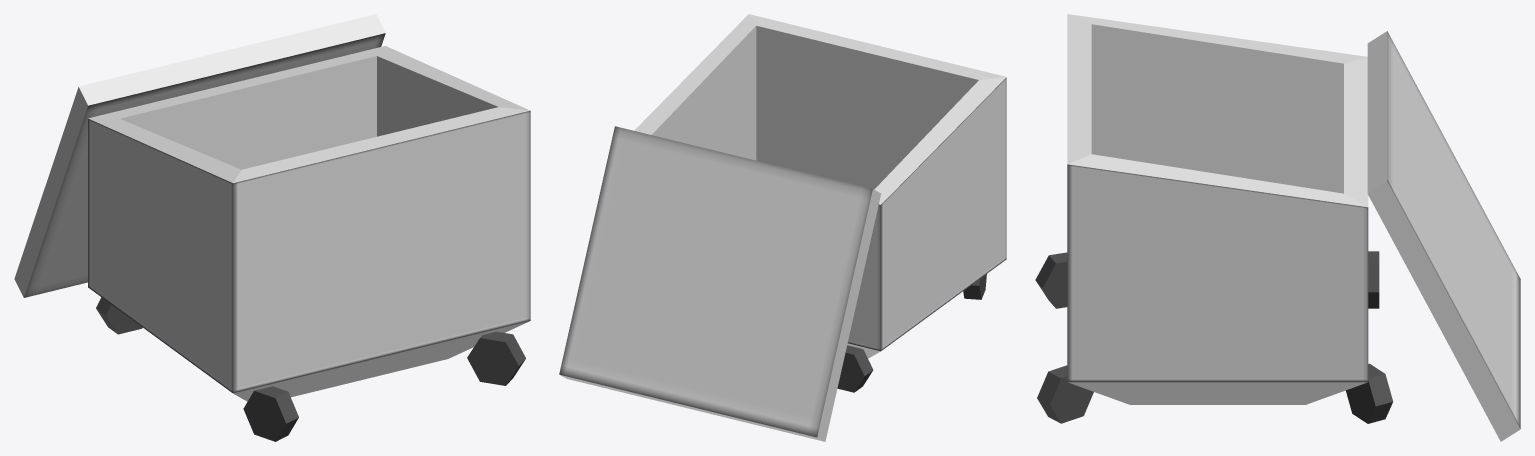
The model's file is Dumpster-02.fbx.
The picture shows the model from 3 angles, left to right: view 1: azimuth 30°, elevation 25°; view 2: azimuth 150°, elevation 25°; view 3: azimuth 270°, elevation 25°; orthographic projection. The views are drawn at different scales.
Visible parts, largest first — view 1: Dumpster_02; view 2: Dumpster_02; view 3: Dumpster_02.
Part boxes in pixels (left/top/right/bottom): Dumpster_02: left=14, top=14, right=530, bottom=441; Dumpster_02: left=559, top=14, right=1006, bottom=441; Dumpster_02: left=1035, top=14, right=1520, bottom=441.
Size of the model in its own units: 0.7239 by 0.6228 by 0.987.
